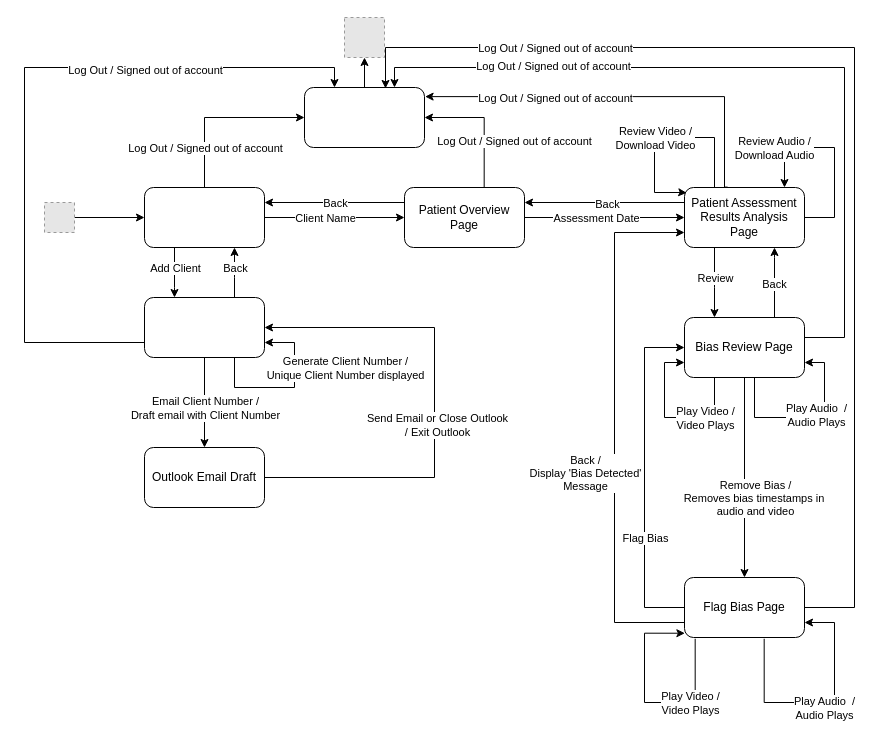
Some shapes in this 880 by 738 pixel diagram are drawn without their labels. Grey dashed boxes stand in for pictures. Here are the shapes that lost their labels. From the top down, the box of each, then its label:
(304, 86, 424, 148): Login Page
(144, 186, 264, 248): Clinician Dashboard Page
(144, 296, 264, 358): Add Client Page
